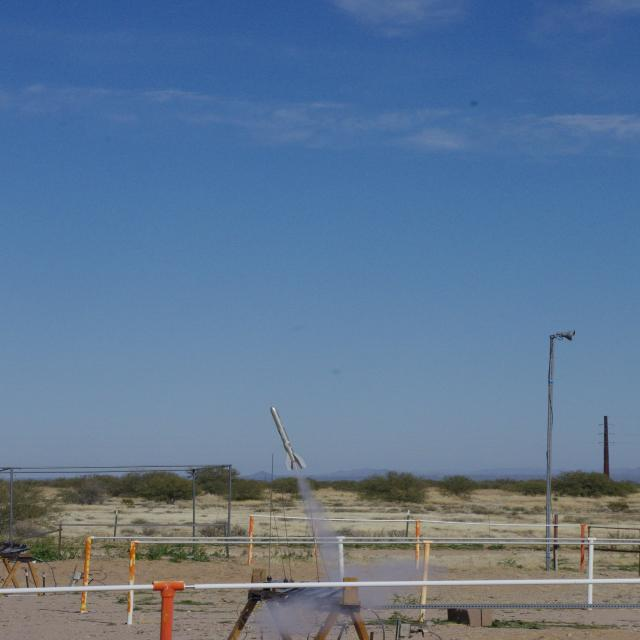Rocket: (270, 406, 307, 470)
